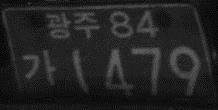1: (70, 47, 92, 97)
4: (102, 47, 134, 98), (137, 9, 159, 39)
7: (132, 44, 162, 98)
8: (109, 10, 134, 39)
9: (169, 44, 201, 97)
가: (21, 49, 58, 86)
광주_O: (46, 11, 101, 39)
